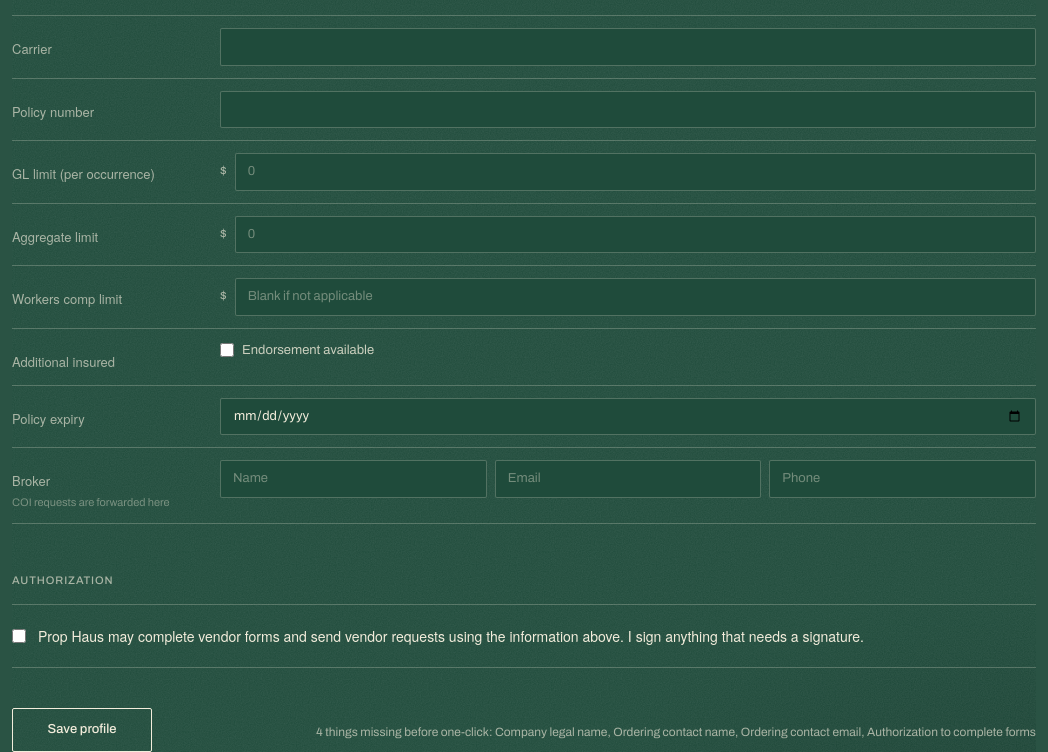
Test: readiness summary › updates from the server response after a save
The image size is (1048, 752).
(page scrolled)
Click the button "Save profile": (82, 730) x1=12 y1=708 x2=152 y2=751
(page scrolled)
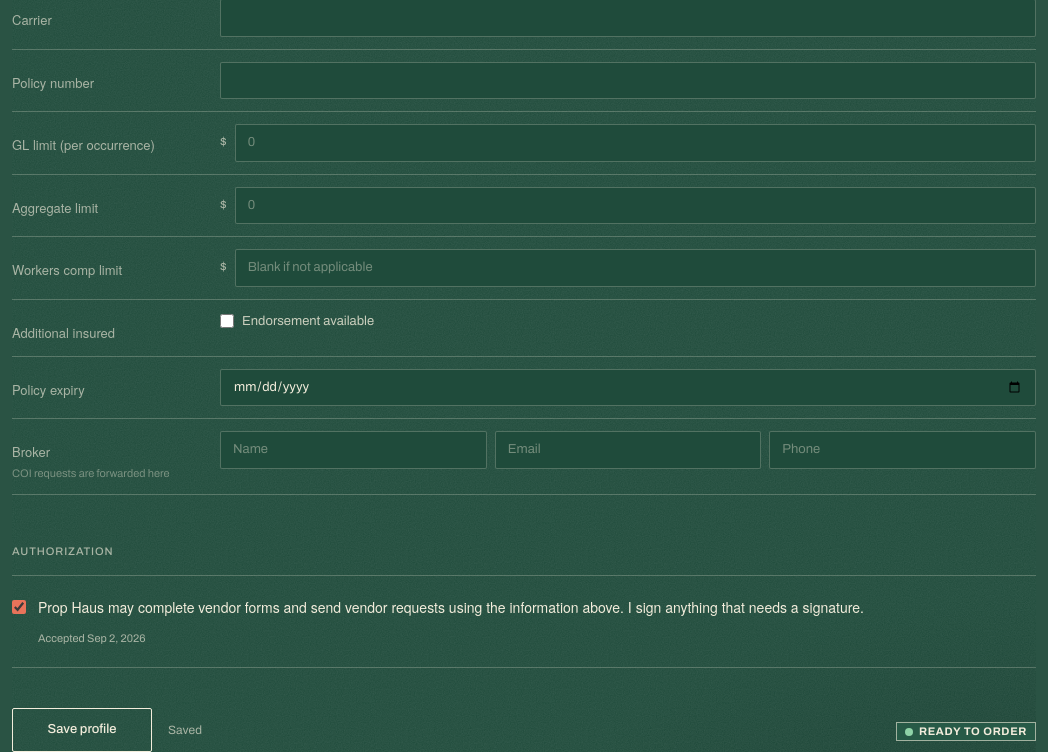
Now the text "Ready to order" is shown, box x1=919 y1=726 x2=1027 y2=737
